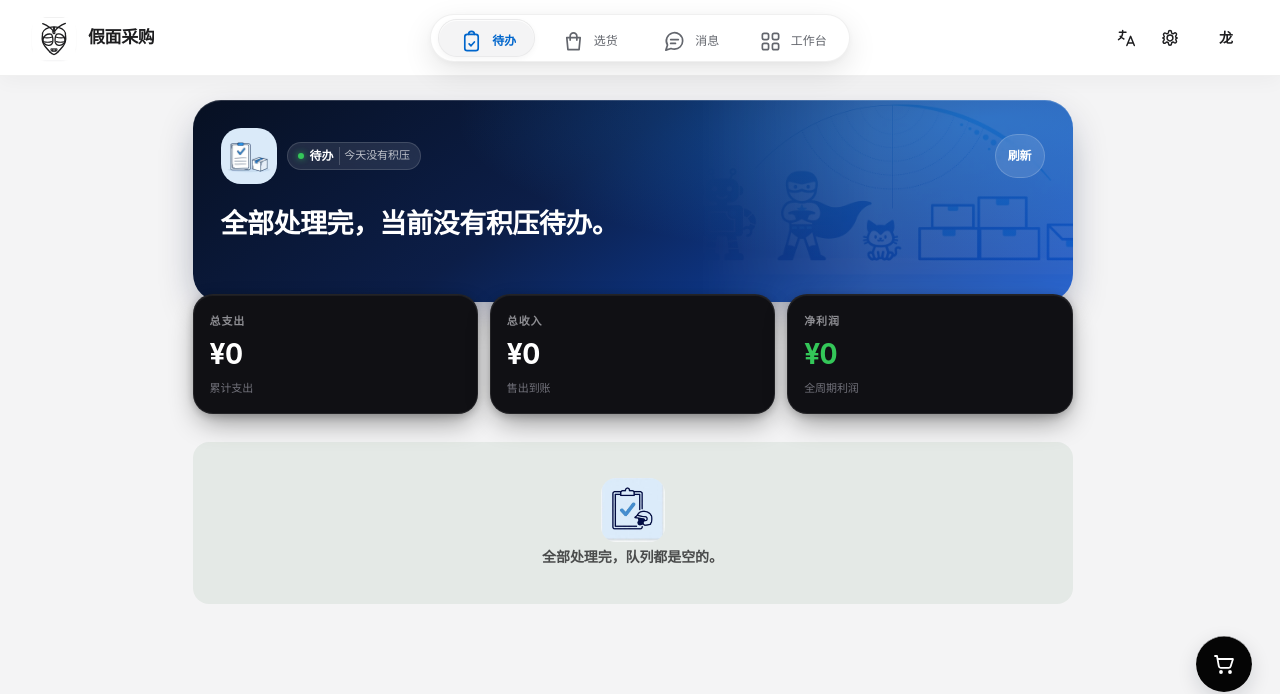
it: Dashboard load error states › degrades quietly when the exchange rate cannot be loaded
Click the button with aria-label "选货". click: (589, 41)
box: [538,19,640,63]
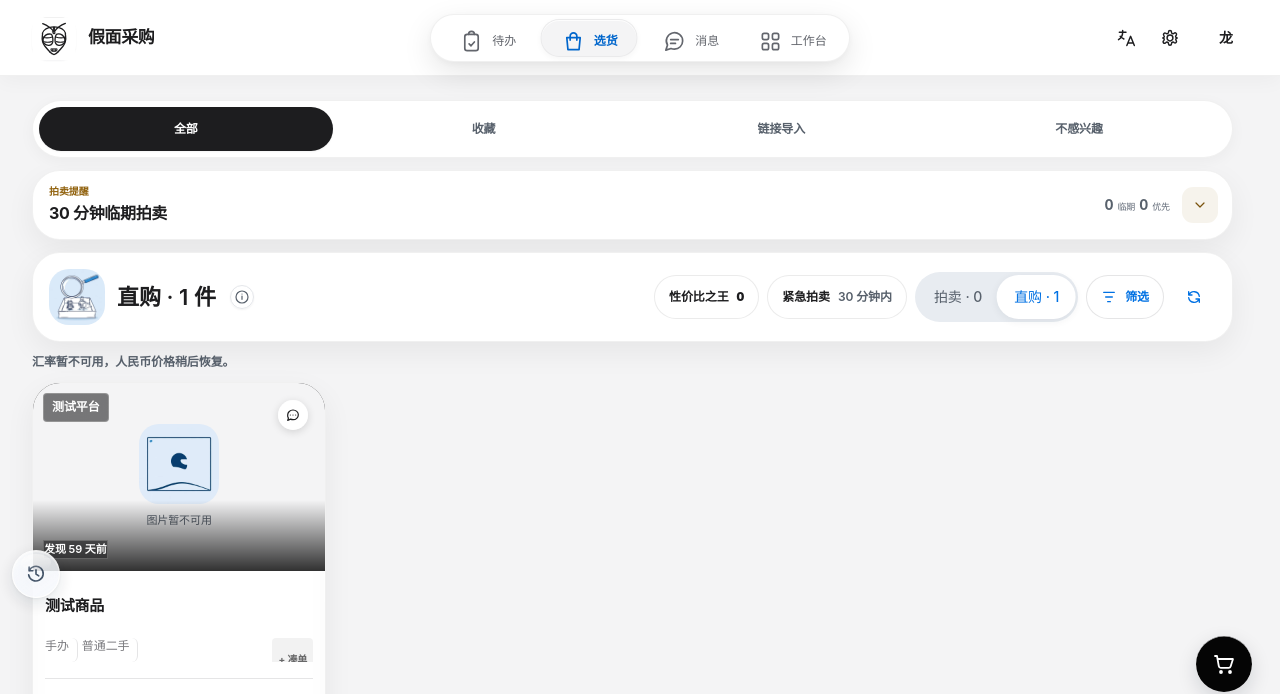
Result: the element named "在售商品类型" is shown at [915,272,1078,322]
Result: the text "汇率暂不可用" is shown at [32,354,234,369]
Result: the text "测试商品" is shown at [45,582,313,630]
